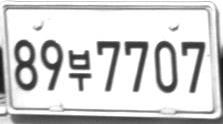0: (153, 40, 178, 93)
7: (180, 41, 206, 93), (96, 40, 121, 91), (124, 40, 148, 92)
8: (13, 38, 38, 91)
9: (40, 38, 63, 91)
부: (68, 49, 91, 91)
